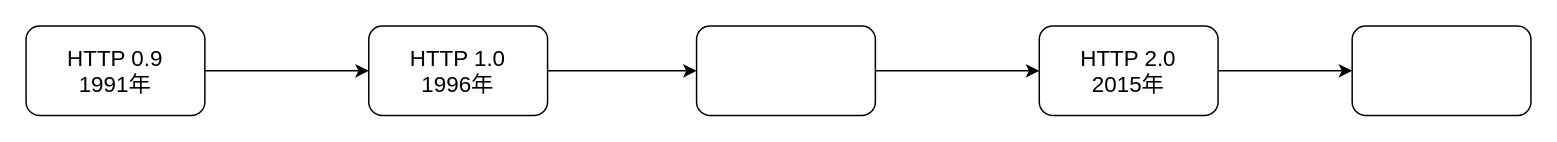
Some shapes in this 1557 by 142 pixel diagram are drawn without their labels. Each missing label, with the centre of its shape:
"HTTP 1.1 1997年" belongs at point (785, 70).
"HTTP 3.0 2018年" belongs at point (1441, 70).
